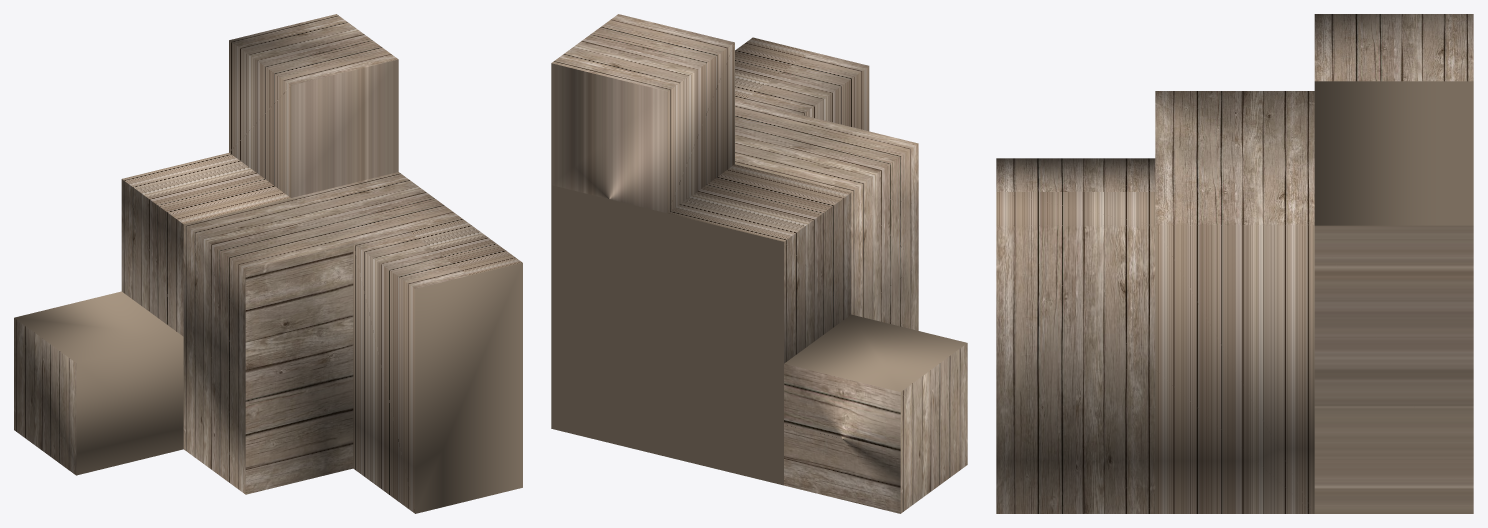
File: boxes.obj
The picture shows the model from 3 angles, left to right: view 1: azimuth 30°, elevation 25°; view 2: azimuth 150°, elevation 25°; view 3: azimuth 270°, elevation 25°; orthographic projection. The views are drawn at different scales.
Parts seen in each view (by area): view 1: Cube.001; view 2: Cube.001; view 3: Cube.001.
Part boxes in pixels (left/top/right/bottom): Cube.001: left=14, top=14, right=522, bottom=513; Cube.001: left=551, top=14, right=967, bottom=513; Cube.001: left=996, top=14, right=1473, bottom=513.
Bounding box in the file's own units: 3 × 3 × 3.
